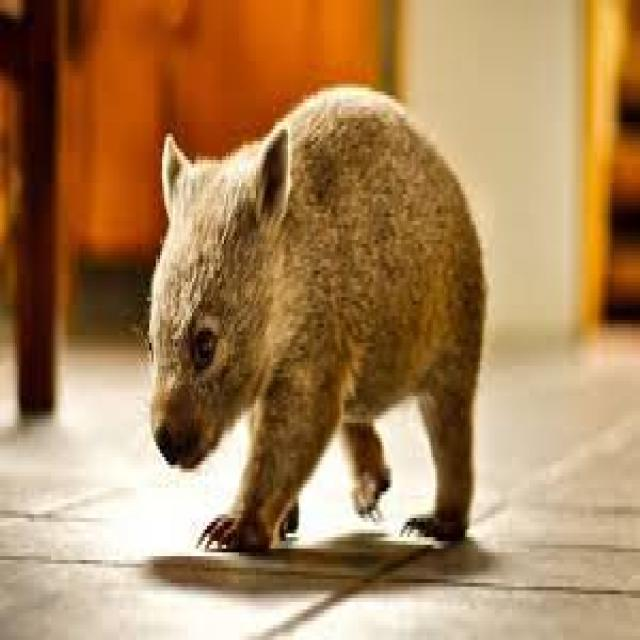Wombat: (145, 81, 495, 559)
